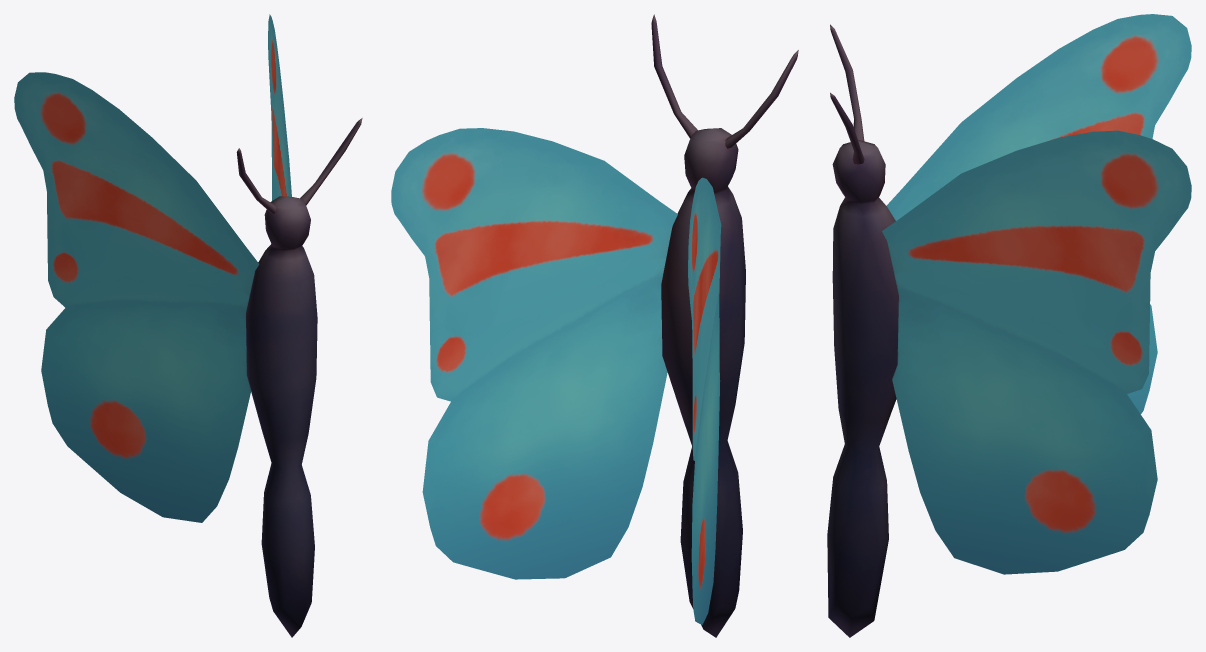
File: MDL_NibblesButterfly.fbx
3 renders of one model, left to right at view 1: azimuth 30°, elevation 25°; view 2: azimuth 150°, elevation 25°; view 3: azimuth 270°, elevation 25°, orthographic. The views are drawn at different scales.
Visible parts, largest first — view 1: MDL_NibblesButterfly; view 2: MDL_NibblesButterfly; view 3: MDL_NibblesButterfly.
Boxes of the visible parts, <box> form: MDL_NibblesButterfly: <box>14,14,362,637</box>; MDL_NibblesButterfly: <box>391,14,798,637</box>; MDL_NibblesButterfly: <box>827,14,1191,637</box>.
Bounding box in the file's own units: 27.31 × 52.65 × 29.99.
